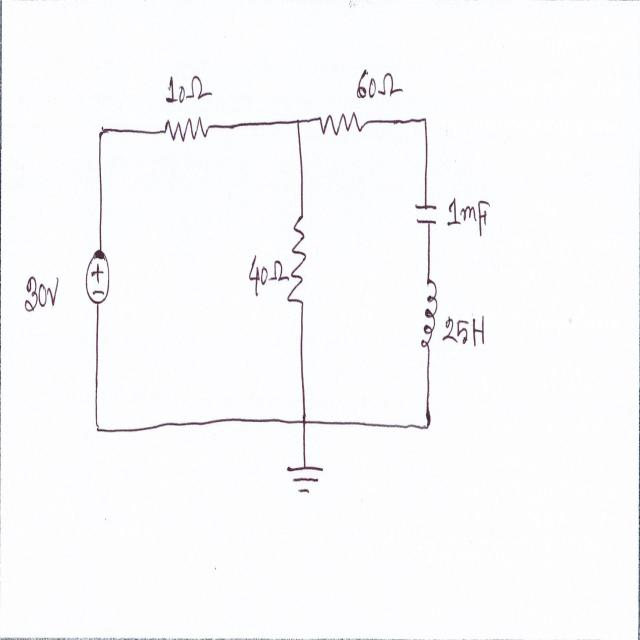capacitor: (414, 199, 438, 231)
ground: (285, 458, 327, 502)
inductor: (420, 268, 440, 362)
resistor: (289, 212, 308, 312), (318, 101, 363, 143), (161, 113, 206, 150)
voltage_source: (86, 244, 110, 310)
